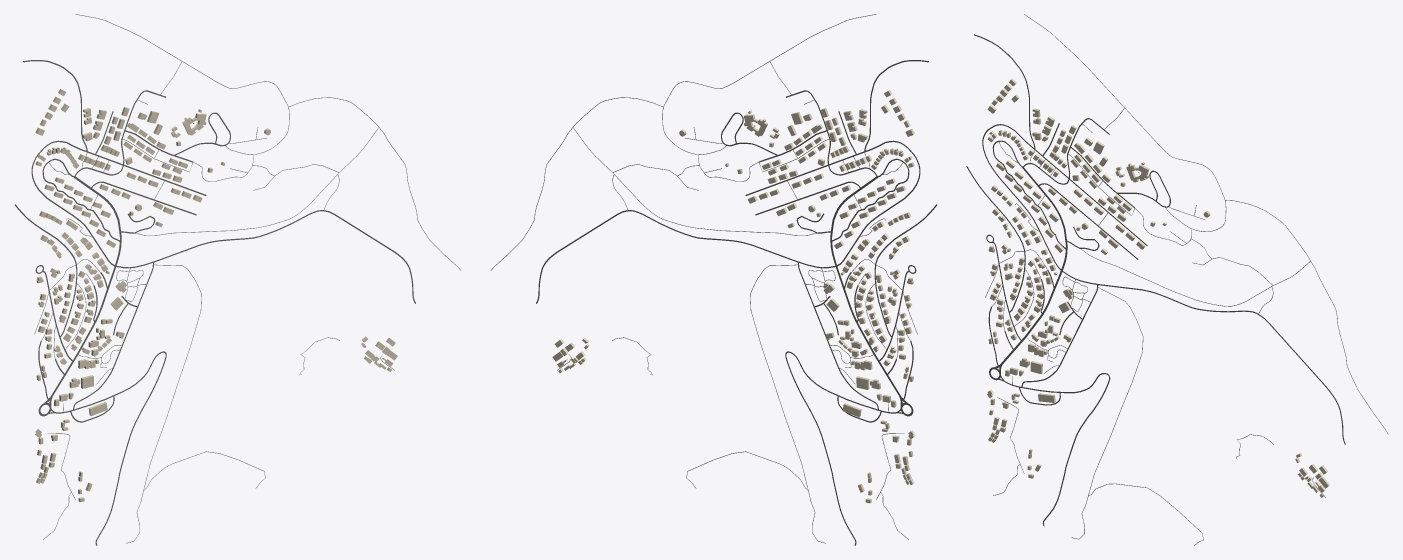
The model's file is historic-palestine-11_28_3533_3223.glb.
3 renders of one model, left to right at view 1: azimuth 30°, elevation 25°; view 2: azimuth 150°, elevation 25°; view 3: azimuth 330°, elevation 25°, orthographic. The views are drawn at different scales.
Parts seen in each view (by area): view 1: Road .001, Road גלעד, Road שמונה עליות.001, Road .009; view 2: Road .001, Road גלעד, Road שמונה עליות.001, Road .009; view 3: Road .001, Road גלעד, Road שמונה עליות.001, Road .009.
Part boxes in pixels (left/top/right/bottom): Road .001: left=115, top=210, right=415, bottom=303; Road גלעד: left=31, top=140, right=206, bottom=266; Road שמונה עליות.001: left=52, top=176, right=121, bottom=395; Road .009: left=55, top=351, right=166, bottom=545; Road .001: left=536, top=210, right=836, bottom=303; Road גלעד: left=745, top=140, right=920, bottom=266; Road שמונה עליות.001: left=830, top=176, right=899, bottom=395; Road .009: left=785, top=351, right=896, bottom=545; Road .001: left=1061, top=270, right=1345, bottom=444; Road גלעד: left=982, top=124, right=1147, bottom=270; Road שמונה עליות.001: left=1001, top=167, right=1067, bottom=364; Road .009: left=1004, top=373, right=1110, bottom=526.
Bounding box in the file's own units: 1202 × 1392 × 8.7.
